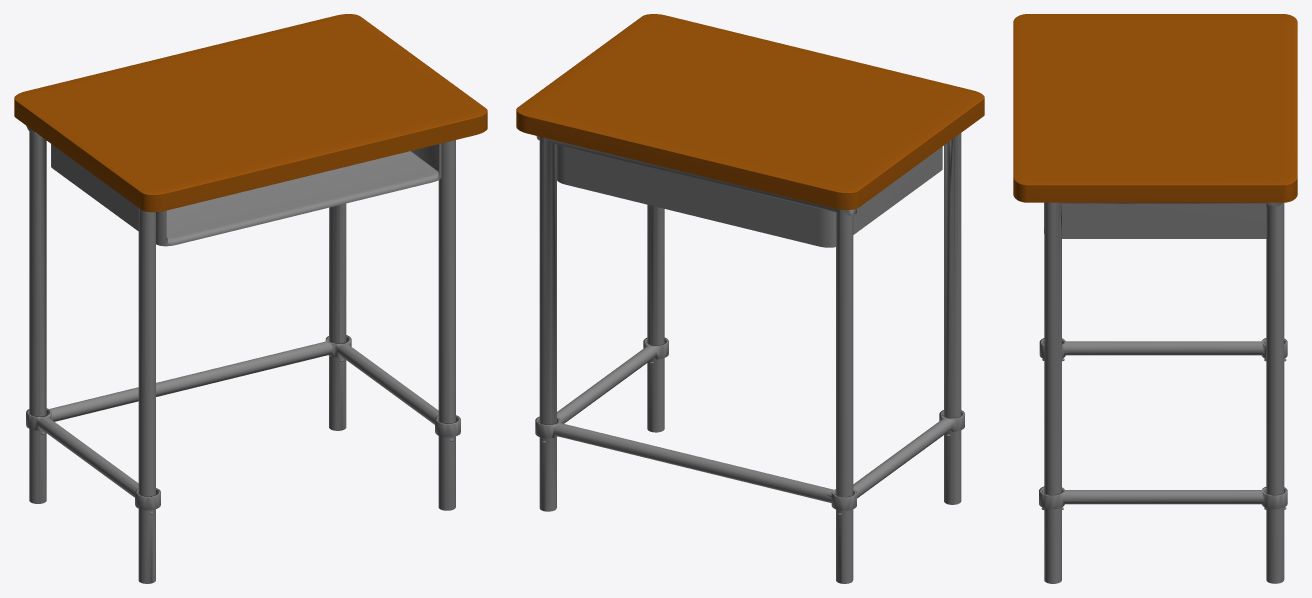
File: Desk.fbx
The picture shows the model from 3 angles, left to right: view 1: azimuth 30°, elevation 25°; view 2: azimuth 150°, elevation 25°; view 3: azimuth 270°, elevation 25°; orthographic projection. The views are drawn at different scales.
Visible parts, largest first — view 1: mmGroup0, mmGroup0_2, mmGroup0_1, mmGroup0_3; view 2: mmGroup0, mmGroup0_2, mmGroup0_1, mmGroup0_3; view 3: mmGroup0, mmGroup0_2, mmGroup0_1, mmGroup0_3.
Part boxes in pixels (x1,y1,x2,y2): mmGroup0: (14,14,487,212); mmGroup0_2: (26,126,455,583); mmGroup0_1: (51,143,441,246); mmGroup0_3: (26,335,460,510); mmGroup0: (516,14,984,209); mmGroup0_2: (536,133,961,583); mmGroup0_1: (556,144,942,247); mmGroup0_3: (535,337,964,510); mmGroup0: (1013,14,1297,202); mmGroup0_2: (1041,202,1286,583); mmGroup0_1: (1044,204,1266,238); mmGroup0_3: (1039,338,1287,509).
Bounding box in the file's own units: 5700 × 6350 × 4000.
